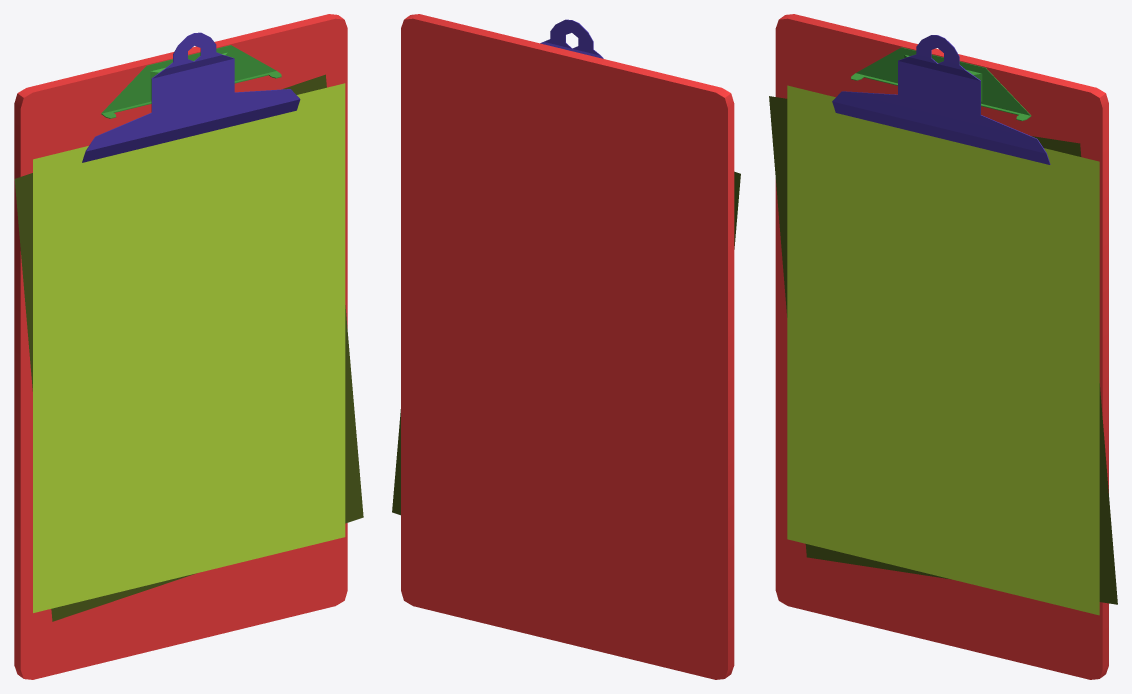
The model's file is Patient_Sheet_With_Clipboard.fbx.
3 views of the same model, side by side, from view 1: azimuth 30°, elevation 25°; view 2: azimuth 150°, elevation 25°; view 3: azimuth 330°, elevation 25° (orthographic).
Visible parts, largest first — view 1: Paper, Clipboard, Plane006, Paper02, Plane007; view 2: Clipboard, Plane006, Paper02; view 3: Paper, Clipboard, Plane006, Paper02, Plane007.
Boxes of the visible parts, <box> form: Paper: <box>33,83,345,612</box>; Clipboard: <box>14,14,347,679</box>; Plane006: <box>82,32,300,162</box>; Paper02: <box>14,74,363,621</box>; Plane007: <box>101,45,281,118</box>; Clipboard: <box>401,14,734,679</box>; Plane006: <box>540,19,603,58</box>; Paper02: <box>392,171,740,515</box>; Paper: <box>787,85,1099,615</box>; Clipboard: <box>775,14,1108,679</box>; Plane006: <box>832,35,1050,164</box>; Paper02: <box>769,96,1117,604</box>; Plane007: <box>851,47,1031,120</box>.
Bounding box in the file's own units: 8.46 × 14.2 × 0.5733.
